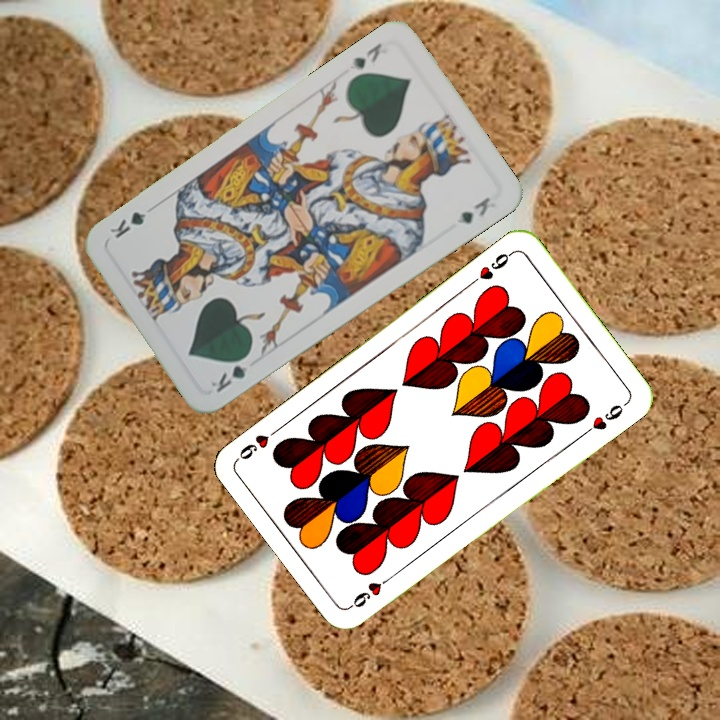GK: (207, 349, 255, 396), (348, 39, 385, 72)
H9: (466, 247, 517, 288), (346, 570, 397, 611)
